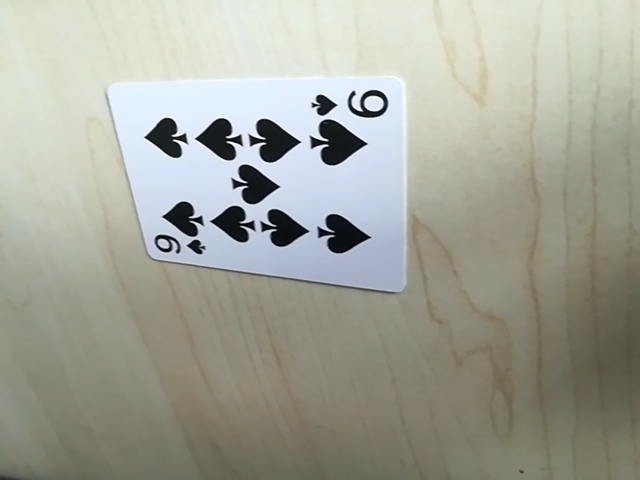ht 9: (310, 85, 392, 120), (147, 232, 206, 262)
